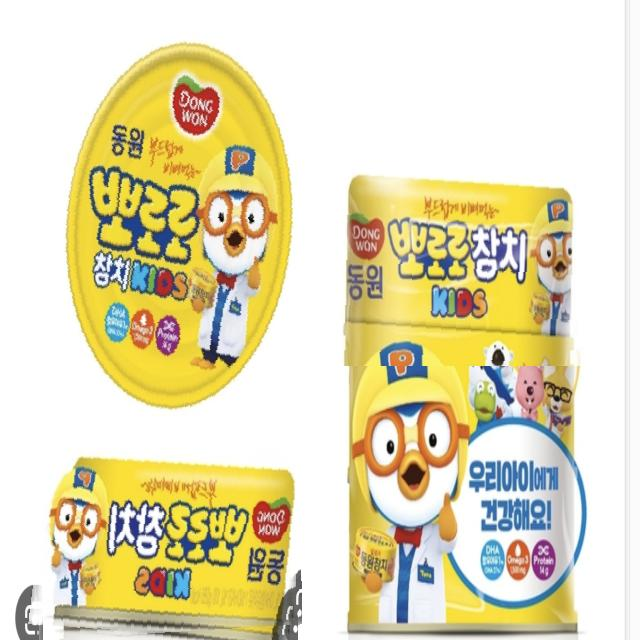recyclable: (14, 0, 332, 429), (332, 146, 586, 366), (33, 439, 303, 640)
